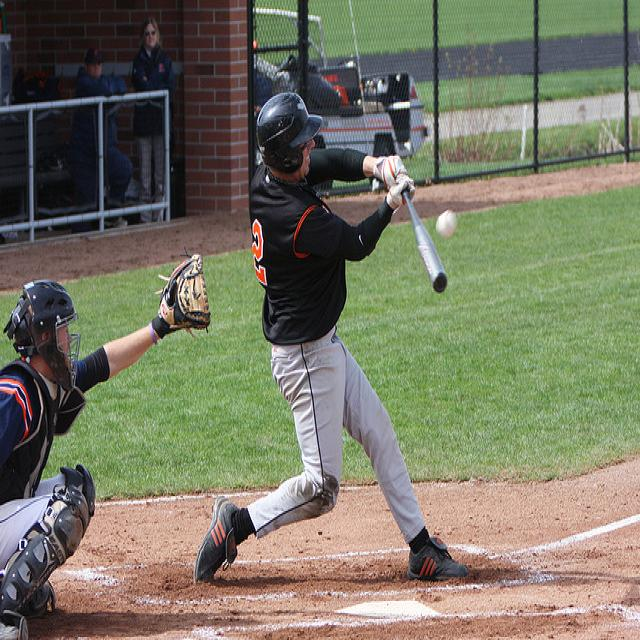Vehicle: (271, 58, 430, 157)
